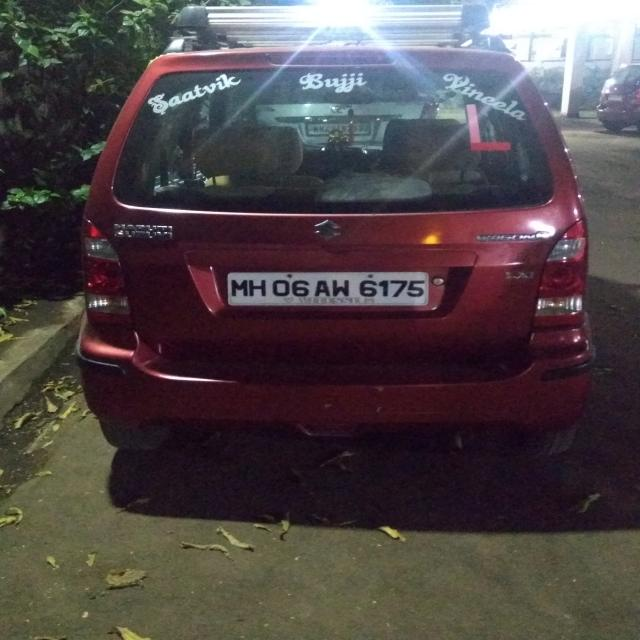Number-Plate: (229, 270, 431, 307)
